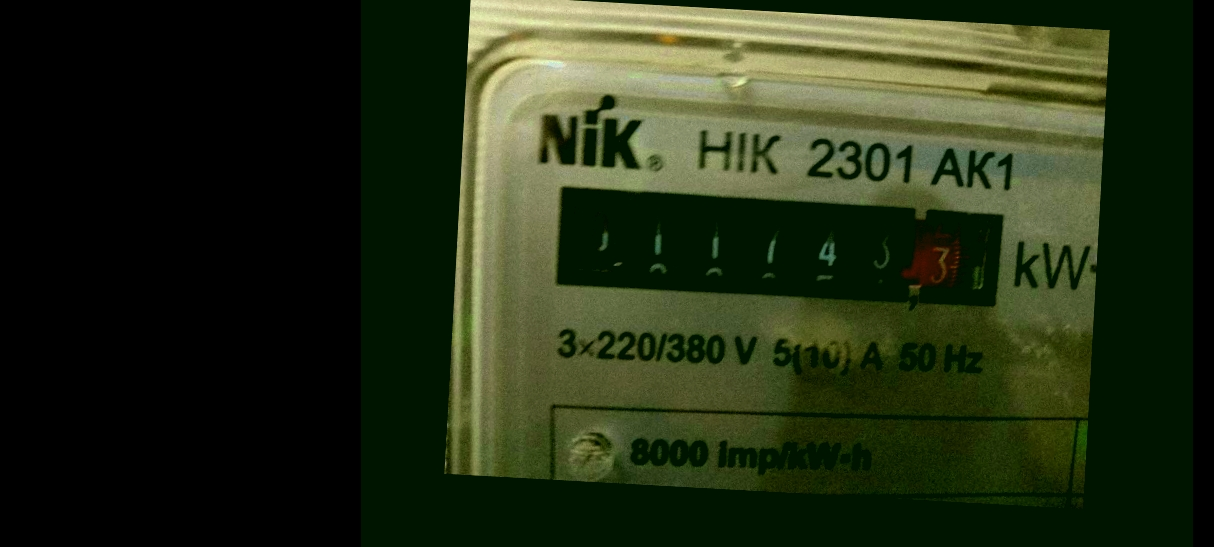0: (584, 206, 616, 254)
1: (704, 213, 727, 262), (649, 210, 668, 259)
3: (867, 224, 898, 273), (927, 242, 953, 287)
4: (814, 220, 844, 270)
7: (760, 218, 786, 268)
screen: (540, 175, 1012, 319)
